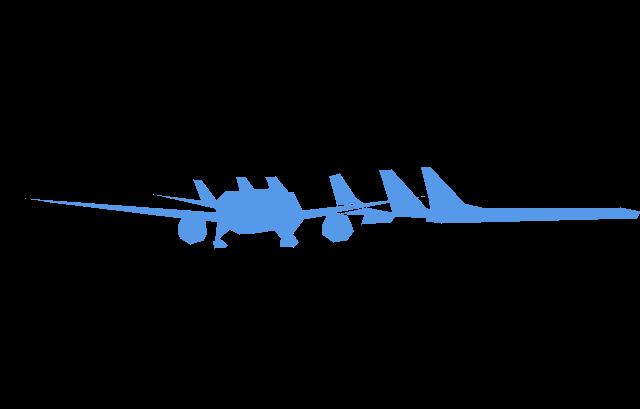Airplane: (25, 179, 430, 248), (421, 167, 640, 224), (329, 173, 397, 224), (379, 169, 431, 219), (265, 176, 290, 194), (236, 177, 255, 190)
